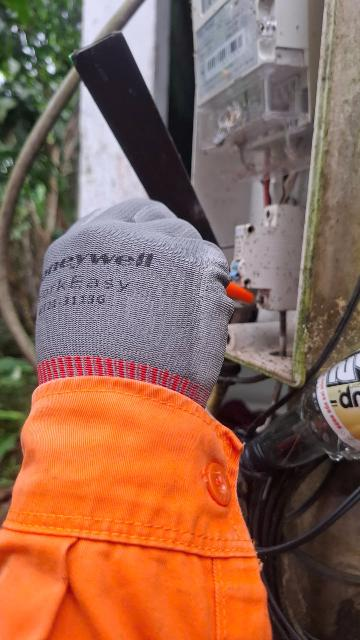gloves: (14, 179, 241, 397)
